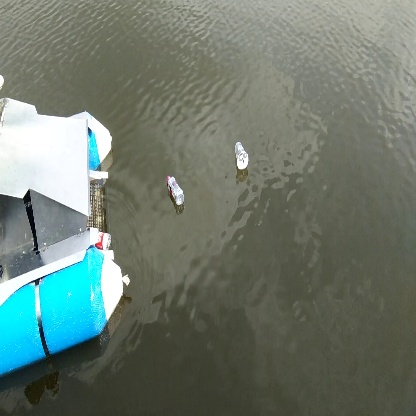bottle: (163, 171, 191, 208), (233, 135, 251, 174)
